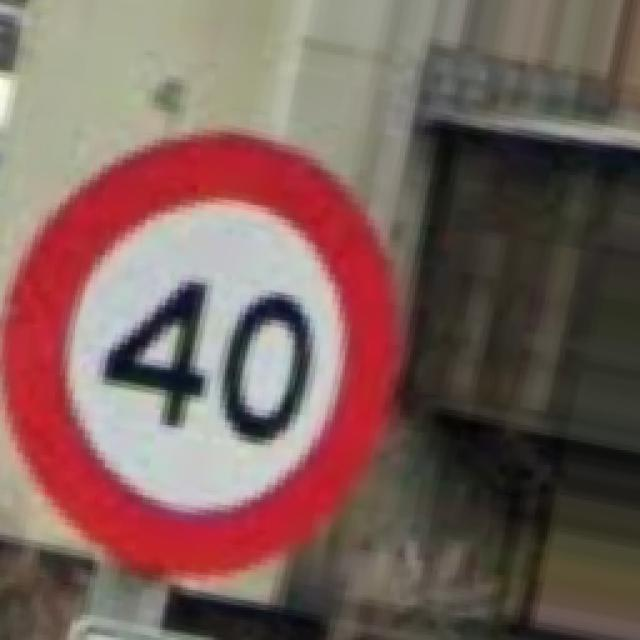Speed Limit -40-: (2, 132, 400, 575)
